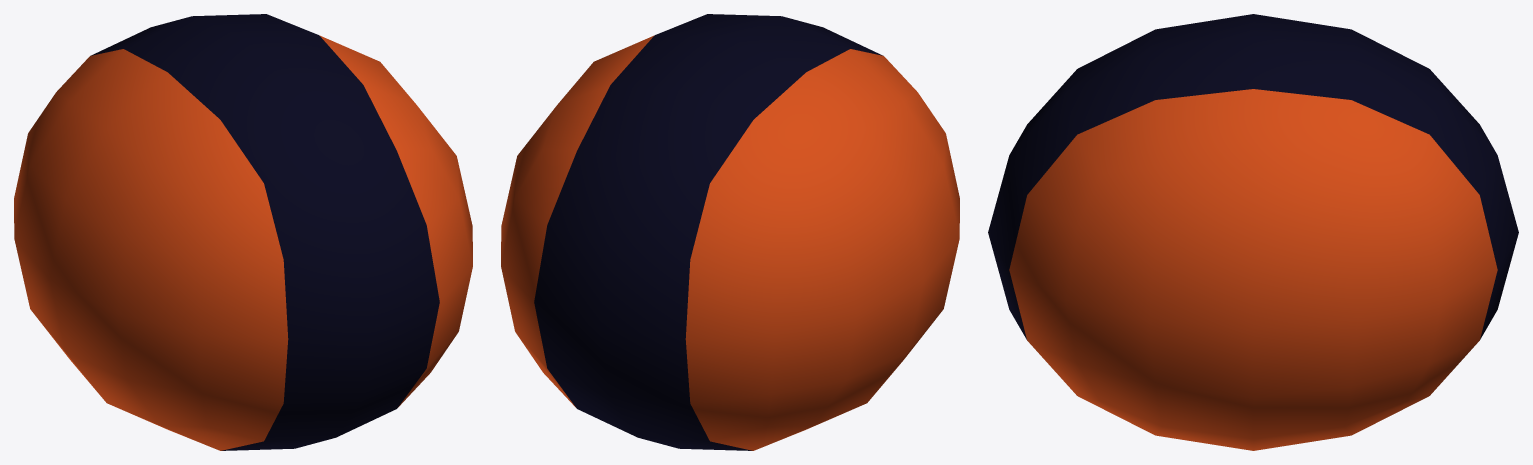
The model's file is speed_ingredient.fbx.
The picture shows the model from 3 angles, left to right: view 1: azimuth 30°, elevation 25°; view 2: azimuth 150°, elevation 25°; view 3: azimuth 270°, elevation 25°; orthographic projection.
Parts seen in each view (by area): view 1: Cube.001; view 2: Cube.001; view 3: Cube.001.
Part boxes in pixels (x1=…): Cube.001: x1=14, y1=14, x2=472, y2=450; Cube.001: x1=501, y1=14, x2=959, y2=450; Cube.001: x1=988, y1=14, x2=1518, y2=450.
Bounding box in the file's own units: 20.26 × 19.44 × 23.77.
